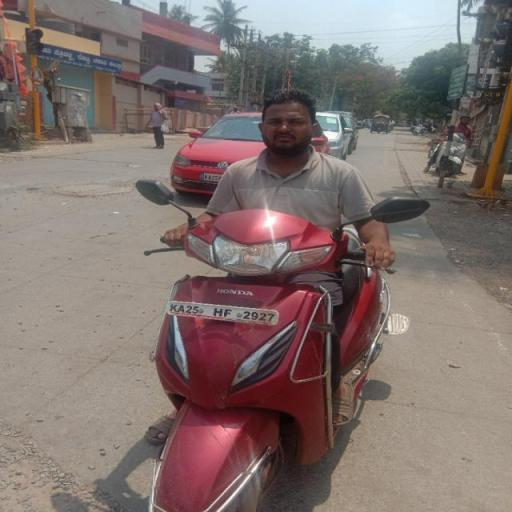bike: (132, 87, 434, 512)
numberplate: (164, 294, 282, 333)
withouthelmet: (260, 95, 319, 149)
